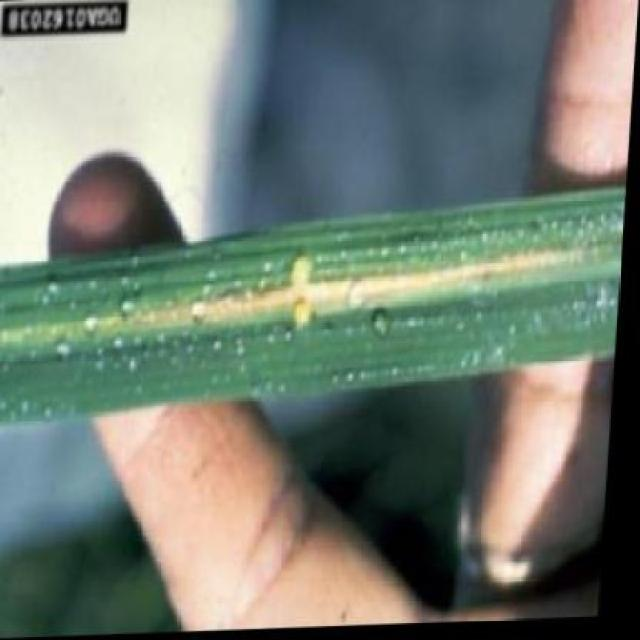Brown_Spot: (54, 231, 617, 358)
